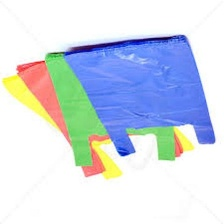plastic_bag: (0, 60, 196, 183), (13, 54, 187, 181), (60, 32, 215, 163), (39, 46, 181, 170)
